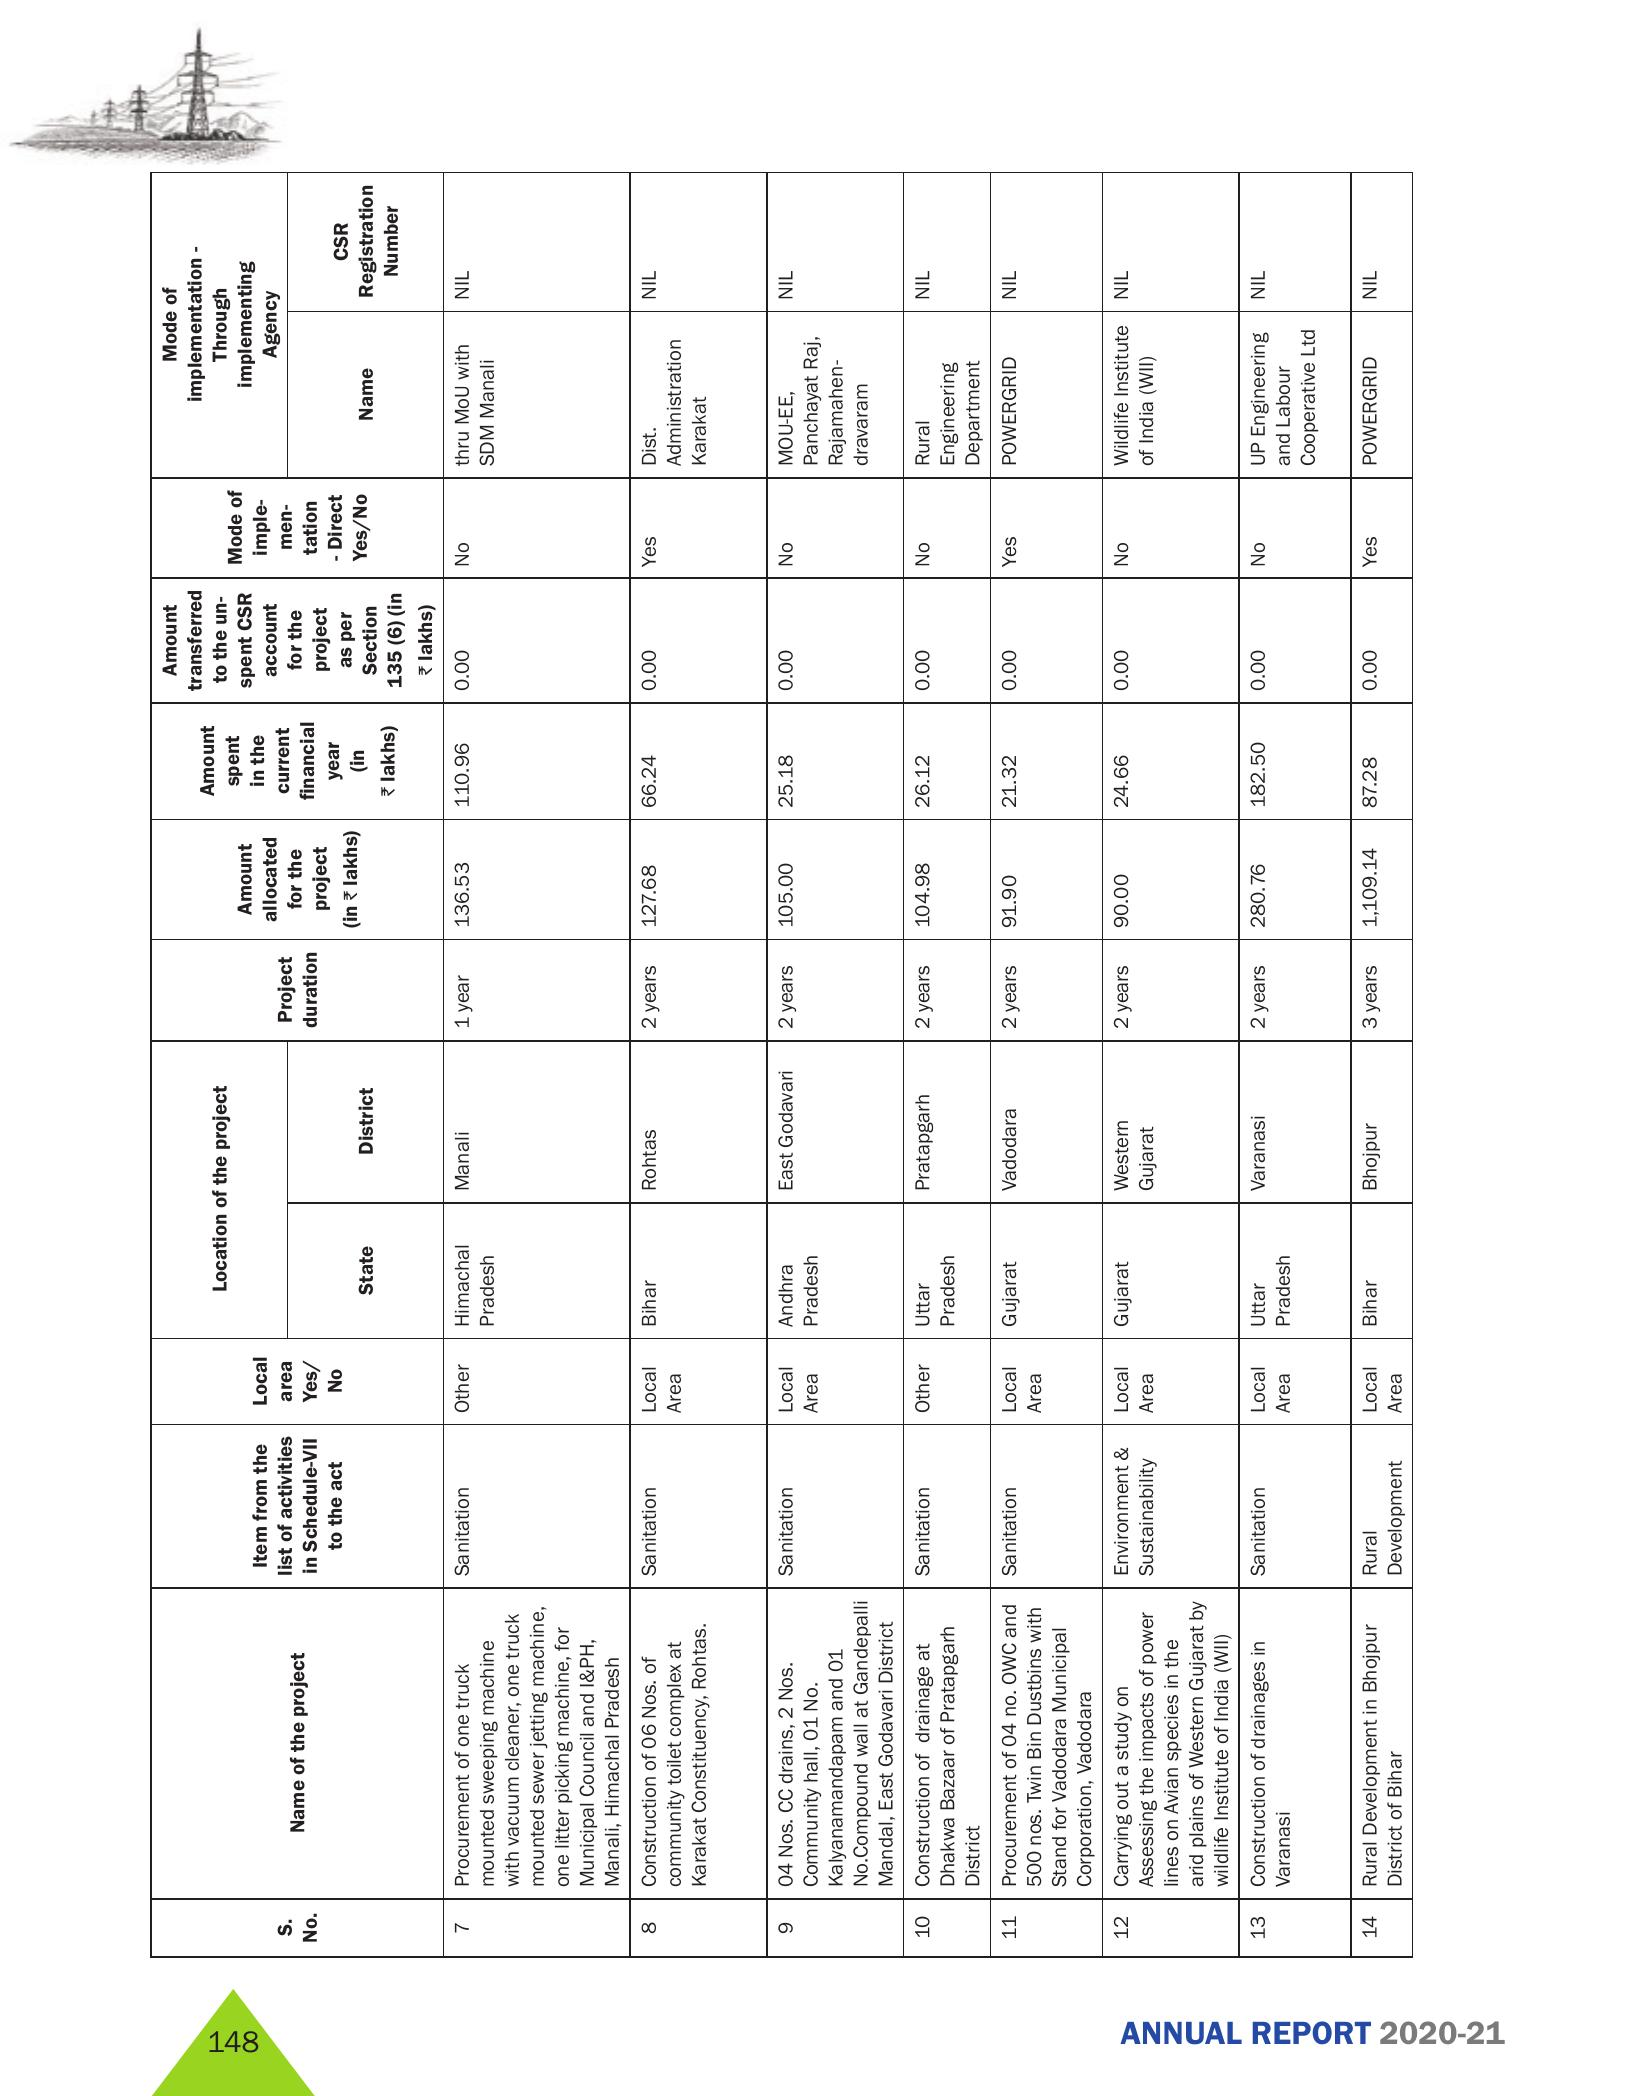Footer: (0, 1982, 1650, 2096)
Header: (0, 0, 1650, 175)
Table: (114, 180, 1446, 1985)
